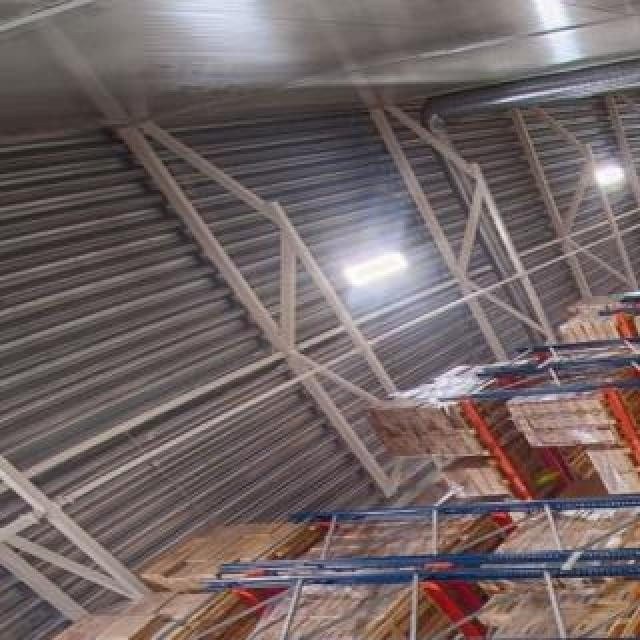fluorescent tube: (331, 237, 427, 306)
